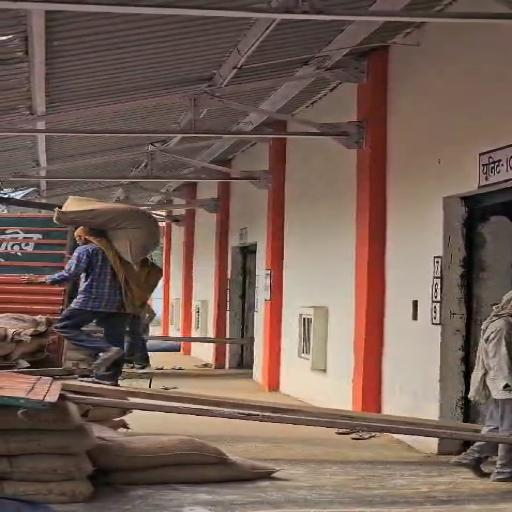bag: (52, 192, 162, 270)
